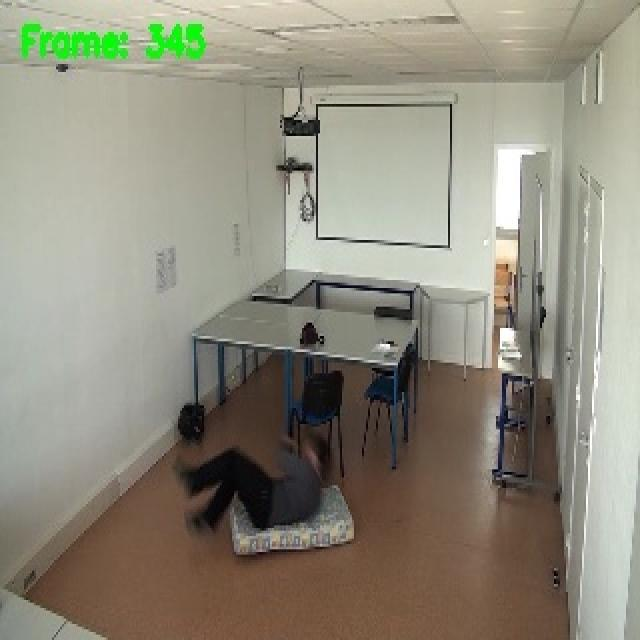fall: (174, 429, 338, 534)
